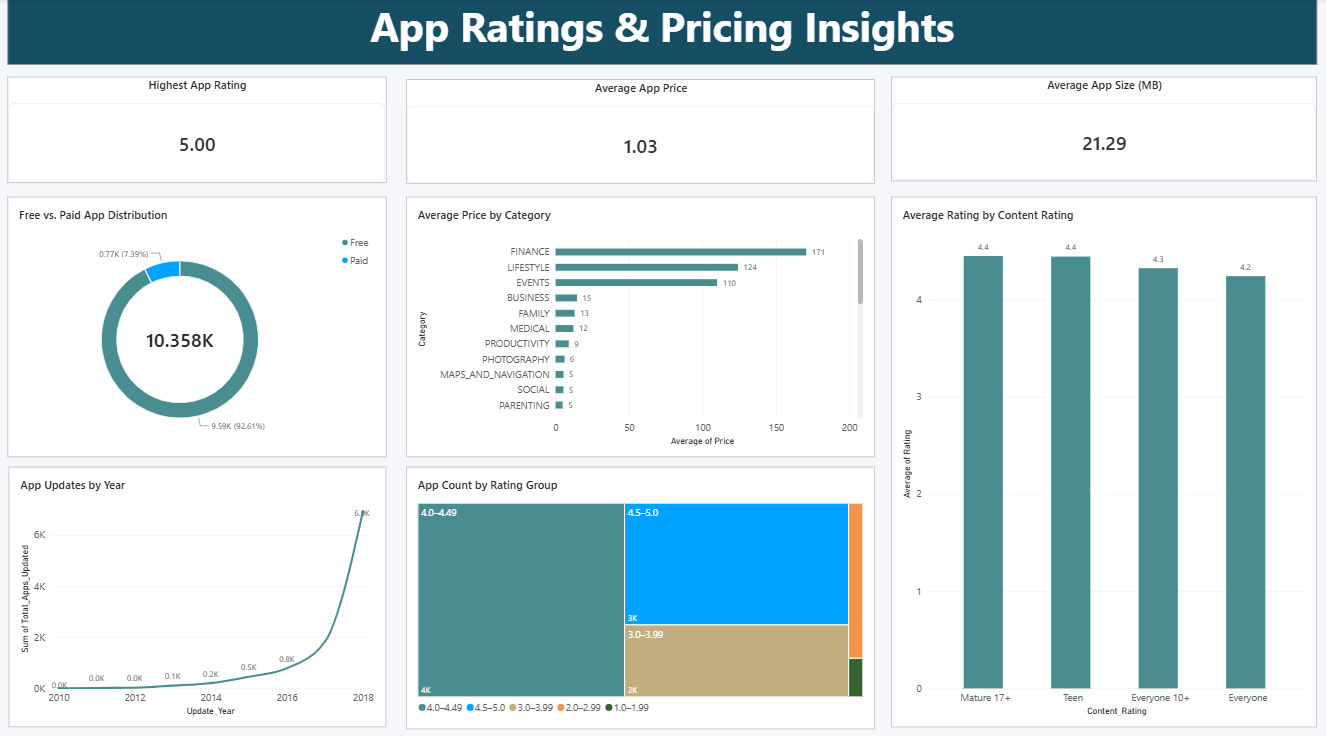

This screenshot's page, from the dashboard's own definition file:
{"tool":"powerbi","page":{"name":"Ratings & Pricing Analysis","canvas":[1920,1080],"ordinal":2},"visuals":[{"type":"textbox","box":[10.3,0,1895.7,96.7],"z":0},{"type":"cardVisual","title":"Highest App Rating","fields":{"Data":["Max(apps.Rating)"]},"box":[10.4,114.4,548.7,153.4],"z":1000},{"type":"cardVisual","title":"Average App Price","fields":{"Data":["Avg(apps.Price)"]},"box":[587.7,117,678.7,150.8],"z":2000},{"type":"cardVisual","title":"Average App Size (MB)","fields":{"Data":["Avg(apps.Size_MB)"]},"box":[1289.7,114.4,616.3,150.8],"z":3000},{"type":"clusteredColumnChart","title":"Average Rating by Content Rating","fields":{"Category":["apps.Content_Rating"],"Y":["Avg(apps.Rating)"]},"box":[1290,288,616,768],"z":4000},{"type":"clusteredBarChart","title":"Average Price by Category","fields":{"Category":["apps.Category"],"Y":["Avg(apps.Price)"]},"box":[587.7,288.6,678.7,377],"z":5000},{"type":"lineChart","title":"App Updates by Year","fields":{"Category":["google_play_store vw_app_update_trends.Update_Year"],"Y":["Sum(google_play_store vw_app_update_trends.Total_Apps_Updated)"]},"box":[13,678.7,546.1,377],"z":6000},{"type":"donutChart","title":"Free vs. Paid App Distribution","fields":{"Category":["apps.Type"],"Y":["CountNonNull(apps.App)"]},"box":[10.4,288.6,548.7,377],"z":7000},{"type":"treemap","title":"App Count by Rating Group","fields":{"Group":["google_play_store vw_rating_distribution.Rating_Group"],"Values":["Sum(google_play_store vw_rating_distribution.Total_Apps)"]},"box":[588,678,678,380],"z":8000}]}

Visuals, with their boxes in screenshot pixels (x1, y1, x2, y2), scaled from the page's 1920x1080 canvas onto the 1326x736 screenshot:
textbox: rect(7, 0, 1316, 66)
"Highest App Rating" cardVisual: rect(7, 78, 386, 183)
"Average App Price" cardVisual: rect(406, 80, 875, 183)
"Average App Size (MB)" cardVisual: rect(891, 78, 1316, 181)
"Average Rating by Content Rating" clusteredColumnChart: rect(891, 196, 1316, 720)
"Average Price by Category" clusteredBarChart: rect(406, 197, 875, 454)
"App Updates by Year" lineChart: rect(9, 463, 386, 719)
"Free vs. Paid App Distribution" donutChart: rect(7, 197, 386, 454)
"App Count by Rating Group" treemap: rect(406, 462, 874, 721)
